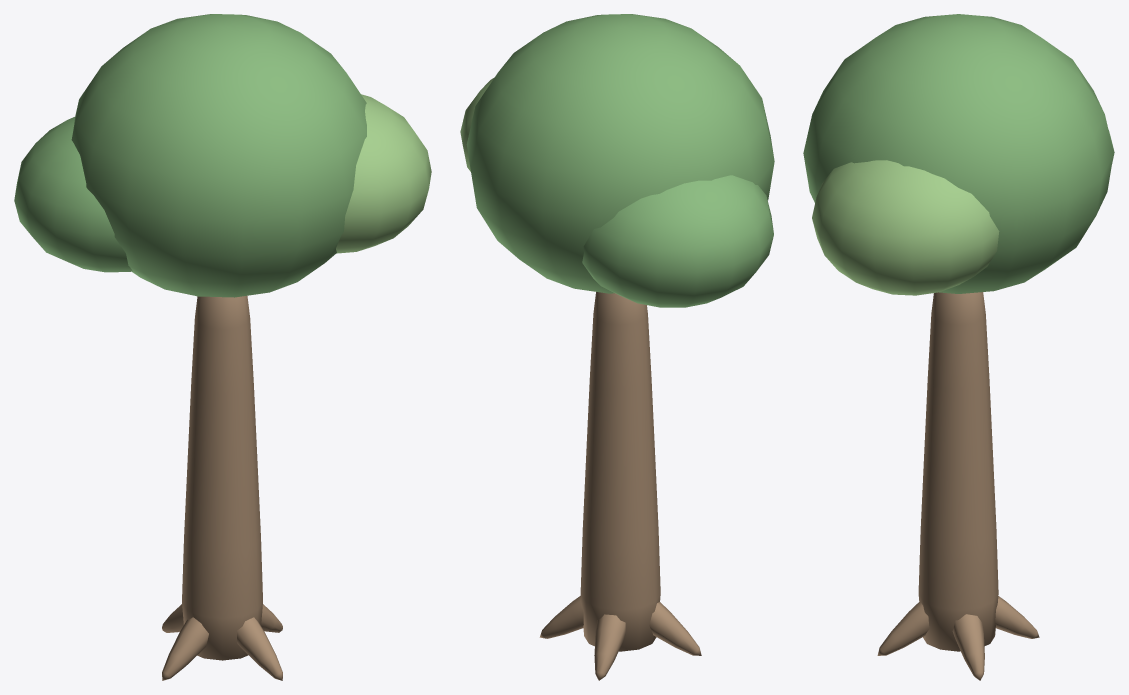
The model's file is tree.glb.
3 renders of one model, left to right at view 1: azimuth 30°, elevation 25°; view 2: azimuth 150°, elevation 25°; view 3: azimuth 270°, elevation 25°, orthographic.
Parts seen in each view (by area): view 1: tree; view 2: tree; view 3: tree.
Part boxes in pixels (box(x1,y1,x2,y2)): tree: box(14, 14, 431, 680); tree: box(460, 14, 774, 680); tree: box(803, 14, 1114, 680).
Size of the model in its own units: 2.32 by 4.1 by 1.85.
